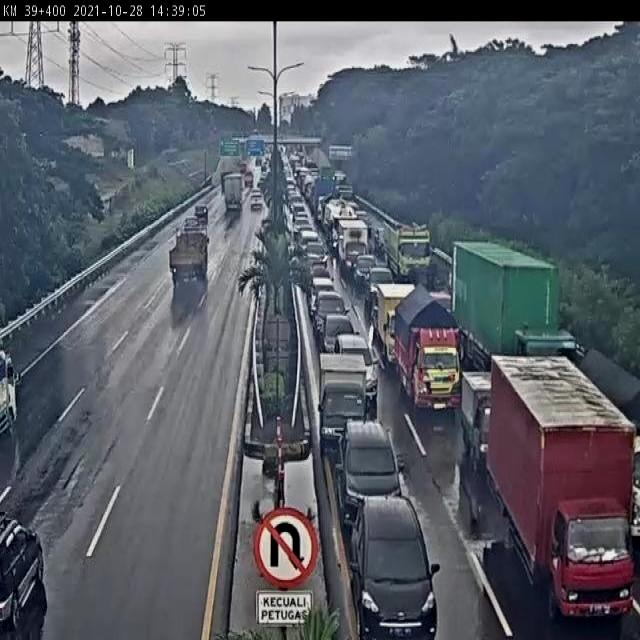Car: (344, 496, 446, 640), (336, 421, 403, 530), (0, 518, 56, 640), (317, 383, 367, 470), (0, 350, 19, 437), (321, 311, 356, 356), (365, 265, 395, 308), (353, 254, 378, 292), (249, 190, 266, 213), (194, 204, 209, 226)
Truck: (487, 357, 640, 640), (450, 242, 558, 366), (388, 284, 464, 414), (169, 215, 209, 301), (321, 352, 368, 425), (382, 220, 432, 284), (222, 170, 246, 213)
